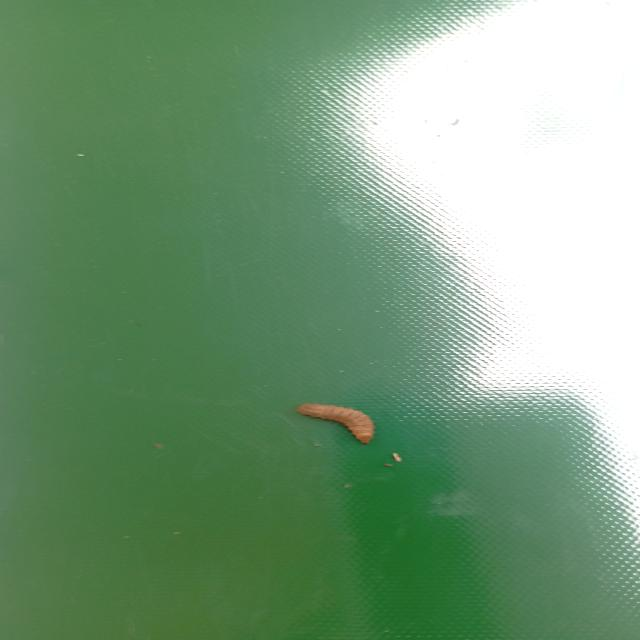Maggot: (296, 403, 375, 447)
